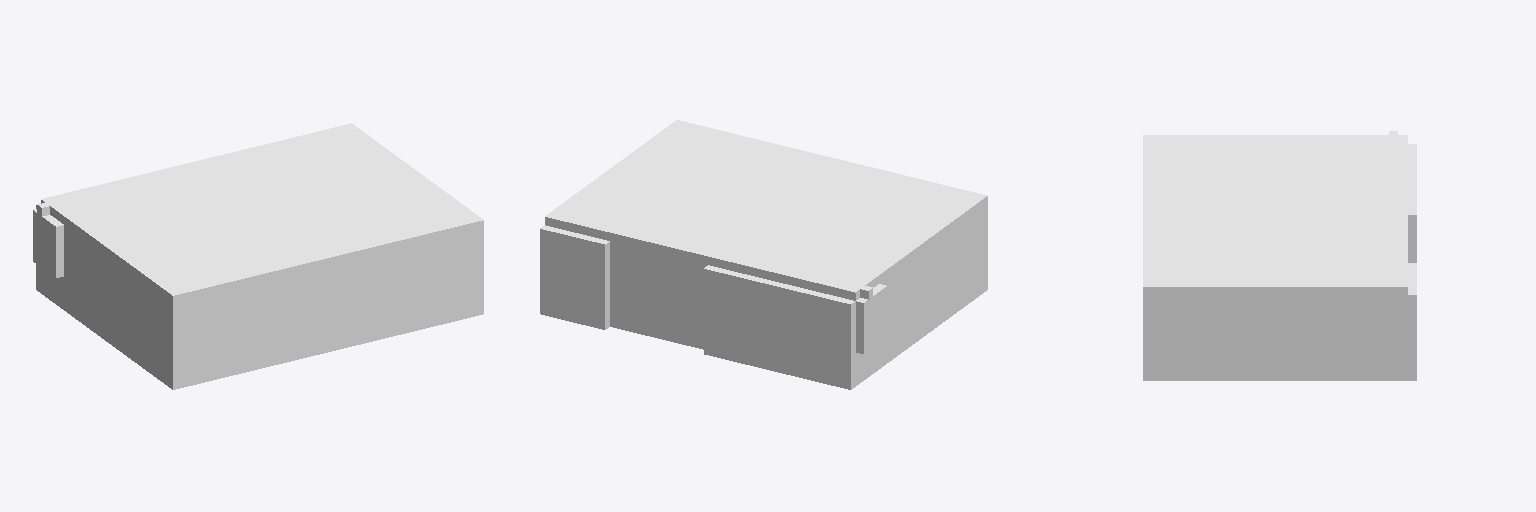
Rendered from Mountain_with_grass.obj.
3 renders of one model, left to right at view 1: azimuth 30°, elevation 25°; view 2: azimuth 150°, elevation 25°; view 3: azimuth 270°, elevation 25°, orthographic.
Parts seen in each view (by area): view 1: object 1; view 2: object 1; view 3: object 1.
Boxes of the visible parts, x1,y1,x2,y2 form: object 1: [33, 123, 483, 389]; object 1: [540, 120, 987, 389]; object 1: [1143, 131, 1416, 380].
Bounding box in the file's own units: 3.9 × 1.1 × 2.9.